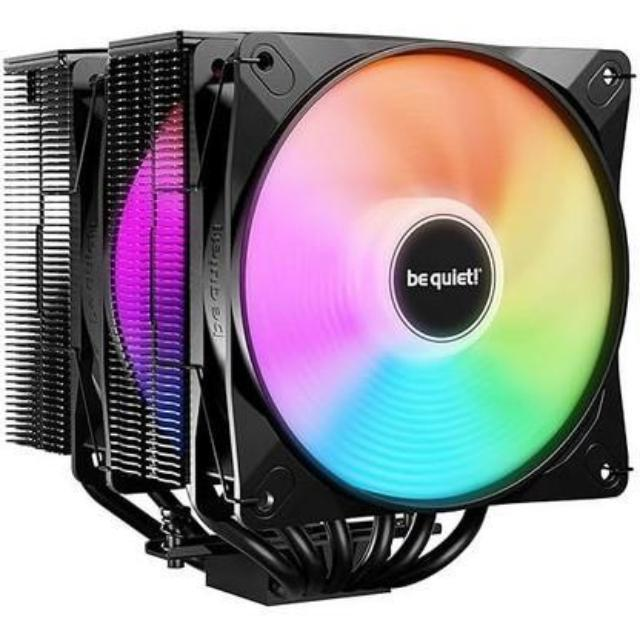CPU_Fan: (0, 44, 637, 606)
